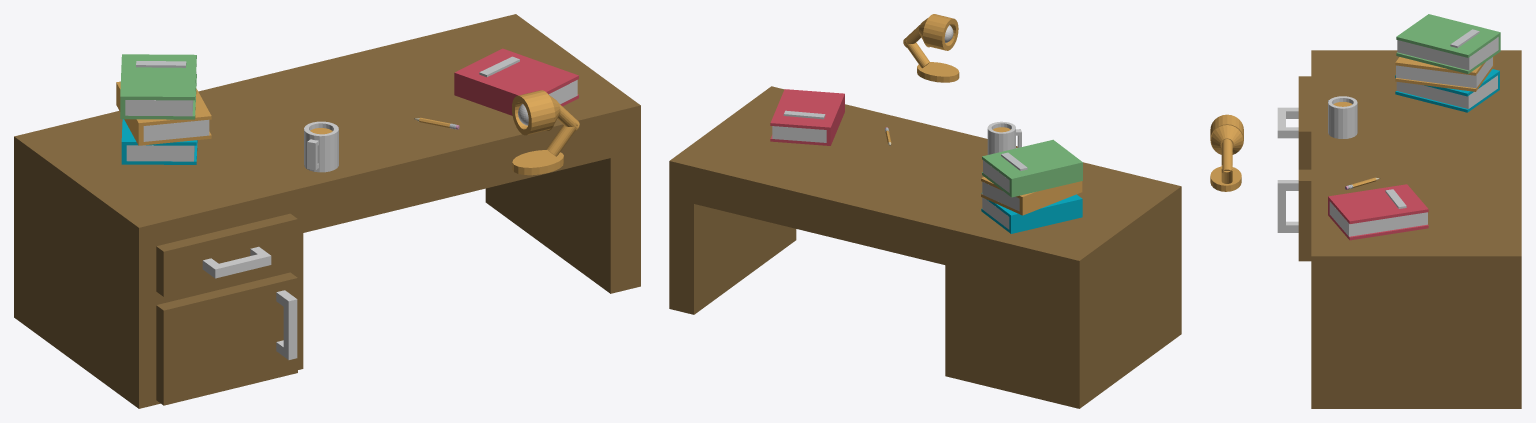
The model's file is Work - Table (2).glb.
3 renders of one model, left to right at view 1: azimuth 30°, elevation 25°; view 2: azimuth 150°, elevation 25°; view 3: azimuth 270°, elevation 25°, orthographic. The views are drawn at different scales.
Visible parts, largest first — view 1: Mesh_Mesh_head_geo.001_lambert2SG.001; view 2: Mesh_Mesh_head_geo.001_lambert2SG.001; view 3: Mesh_Mesh_head_geo.001_lambert2SG.001.
Boxes of the visible parts, x1=… form: Mesh_Mesh_head_geo.001_lambert2SG.001: x1=14, y1=14, x2=640, y2=408; Mesh_Mesh_head_geo.001_lambert2SG.001: x1=669, y1=14, x2=1181, y2=408; Mesh_Mesh_head_geo.001_lambert2SG.001: x1=1210, y1=14, x2=1521, y2=408.
Size of the model in its own units: 116 by 59 by 74.
